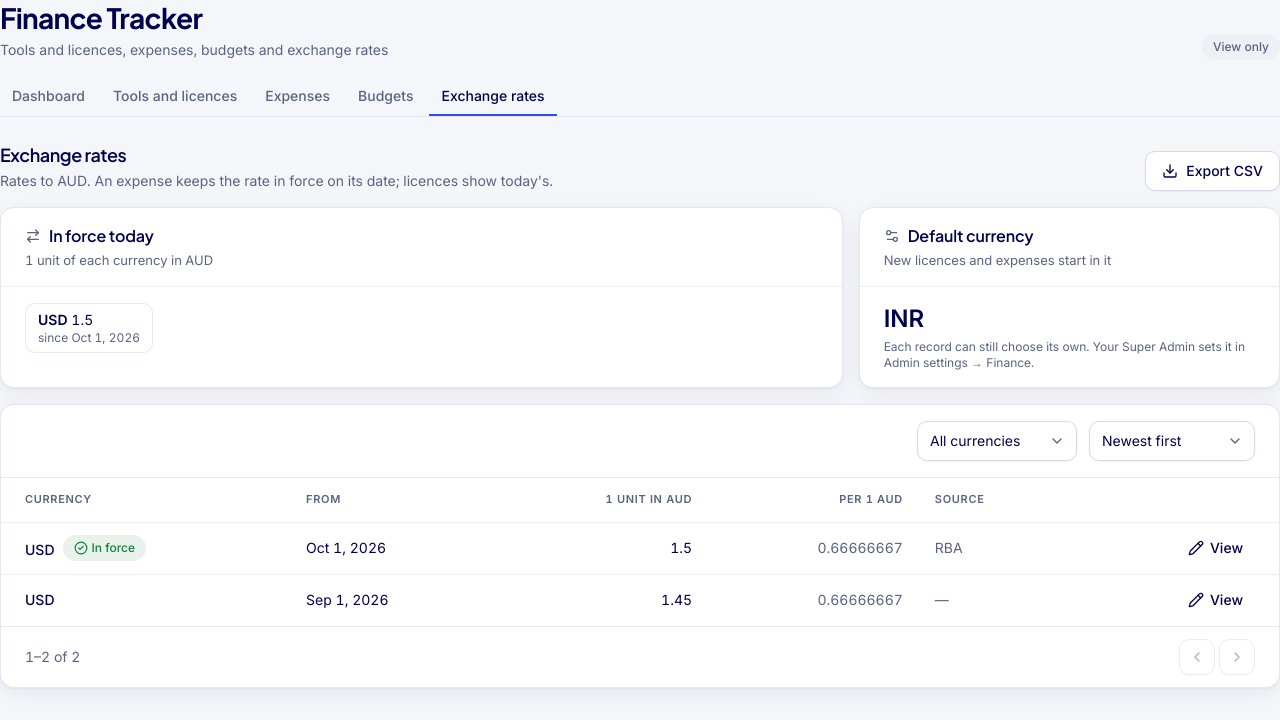
ExchangeRatesPage › shows the default currency read-only, and rates without editing, to view-only users
Expected: the text "Your Super Admin sets it in Admin settings" is shown, [884, 339, 1245, 370]
Click the button with aria-label "View the USD rate". click: [1215, 548]
box: [1176, 532, 1255, 564]
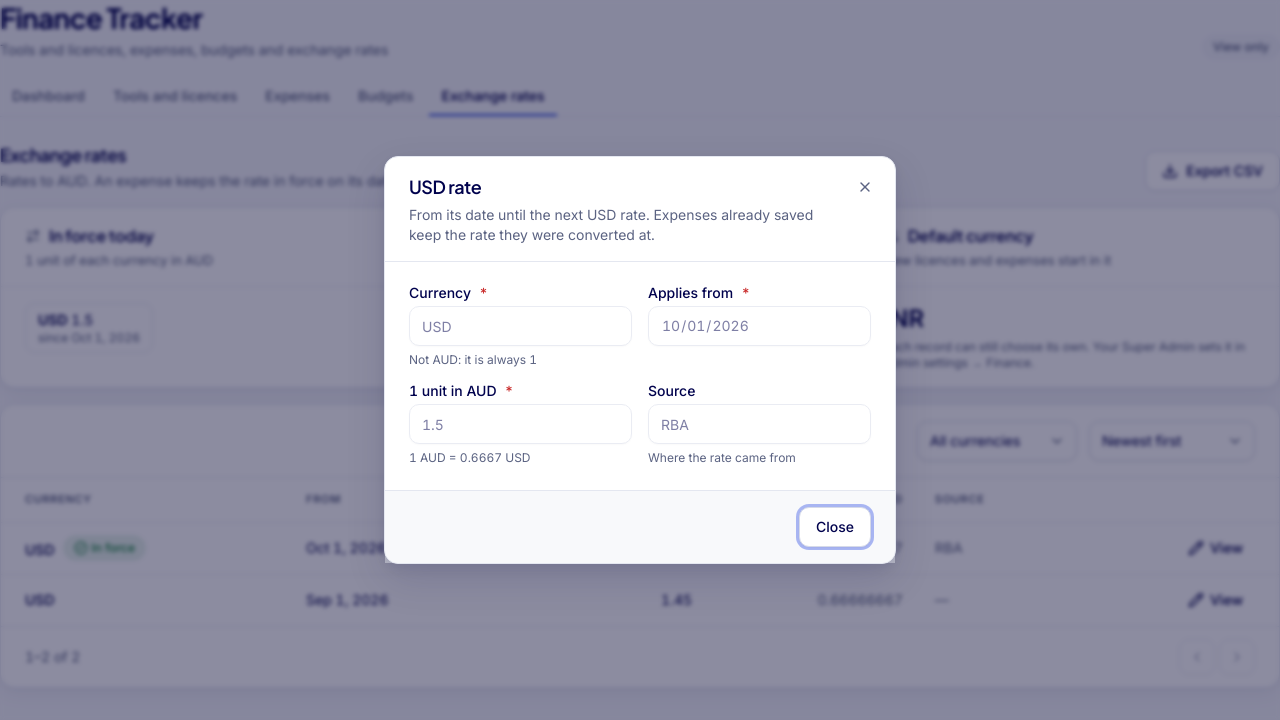
Result: the field labelled "Currency *" is disabled at [409, 306, 632, 346]
